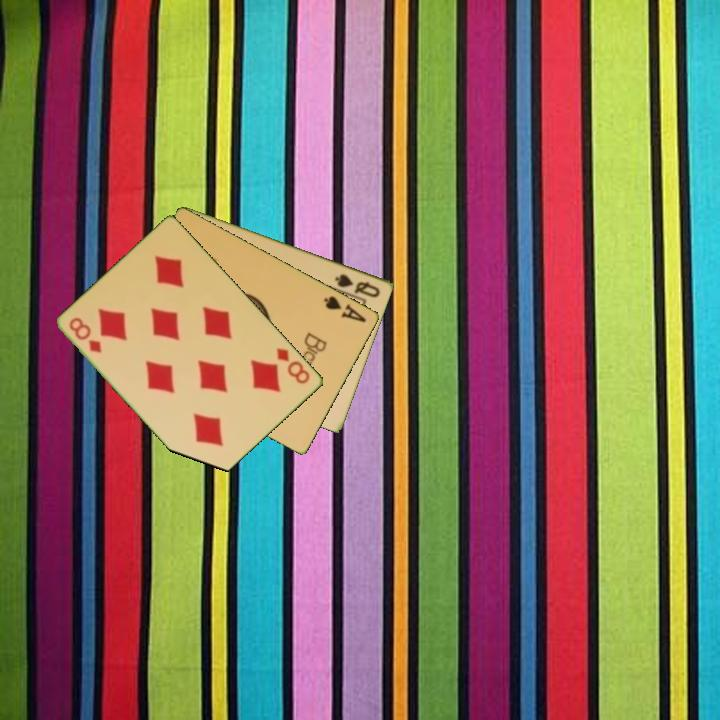8d: (273, 344, 313, 387), (66, 314, 105, 356)
As: (320, 292, 370, 325)
Qs: (331, 270, 383, 300)
